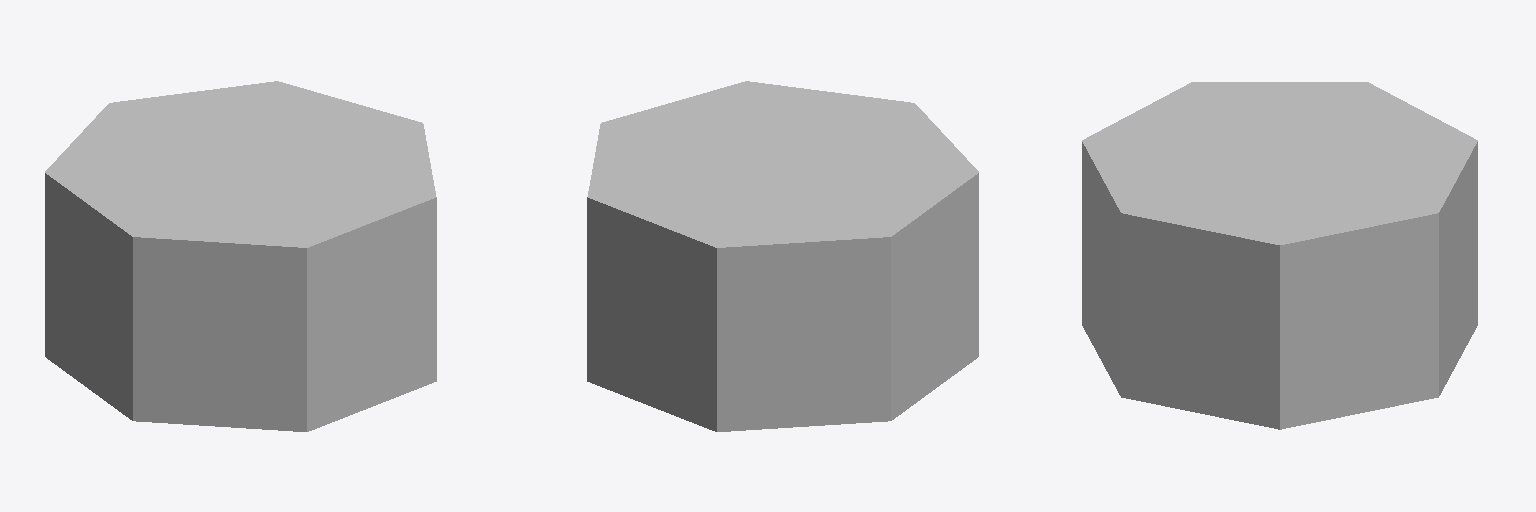
The model's file is small_heptagon.obj.
The picture shows the model from 3 angles: view 1: azimuth 30°, elevation 25°; view 2: azimuth 150°, elevation 25°; view 3: azimuth 270°, elevation 25°; orthographic projection.
Parts seen in each view (by area): view 1: Mesh1 Model; view 2: Mesh1 Model; view 3: Mesh1 Model.
Part boxes in pixels (x1,y1,x2,y2): Mesh1 Model: (45, 81, 436, 431); Mesh1 Model: (587, 81, 978, 431); Mesh1 Model: (1082, 82, 1477, 429).
Bounding box in the file's own units: 5.7 × 3 × 5.85.